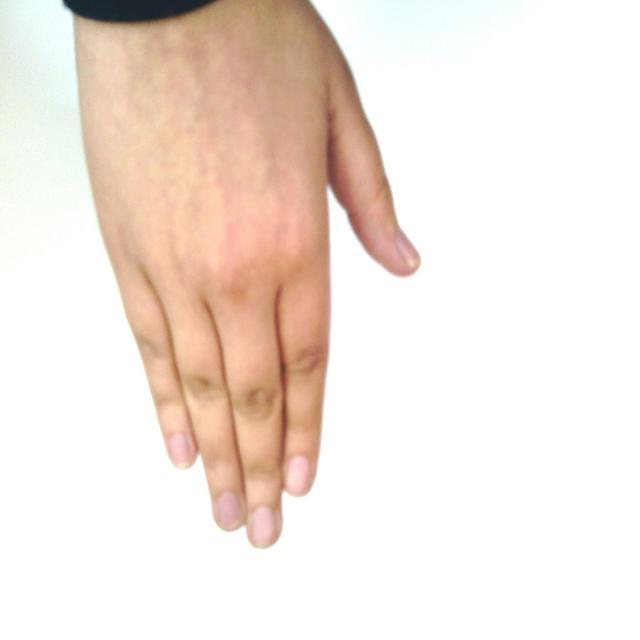Fingernail: (251, 507, 276, 548), (217, 493, 242, 530), (286, 458, 309, 495), (397, 230, 420, 266), (169, 434, 192, 468)
